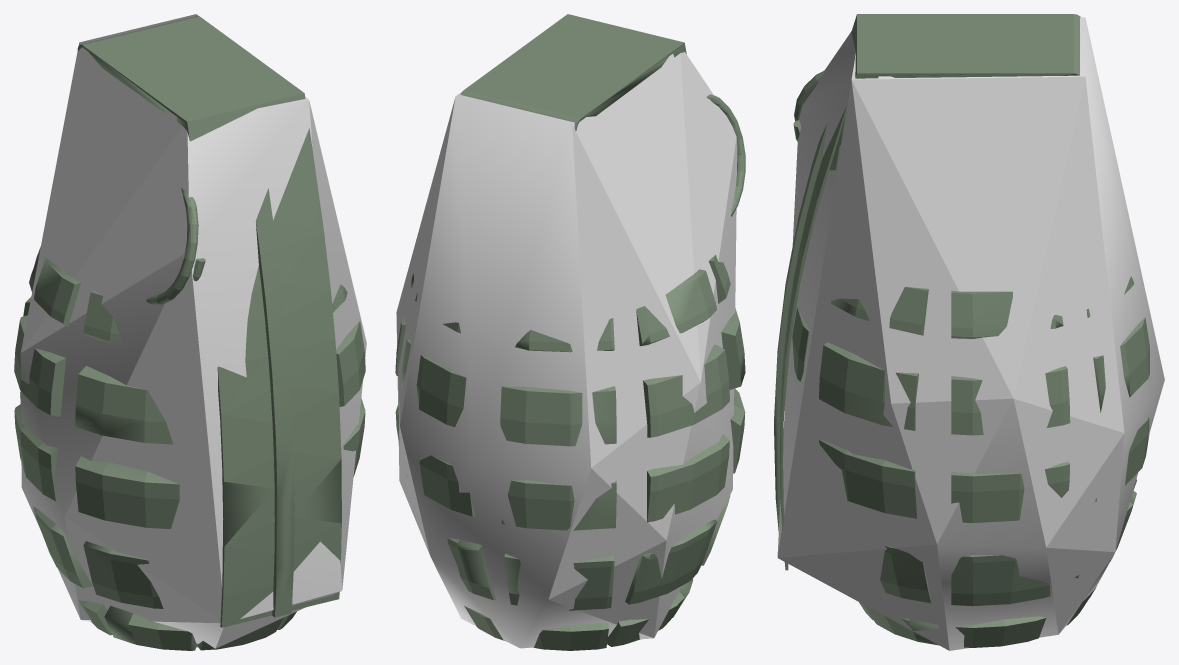
File: grenade.fbx
3 renders of one model, left to right at view 1: azimuth 30°, elevation 25°; view 2: azimuth 150°, elevation 25°; view 3: azimuth 270°, elevation 25°, orthographic. The views are drawn at different scales.
Parts seen in each view (by area): view 1: px.bodyMesh, body; view 2: px.bodyMesh, body; view 3: px.bodyMesh, body.
Boxes of the visible parts, x1=… form: px.bodyMesh: x1=20, y1=14, x2=366, y2=648; body: x1=14, y1=16, x2=365, y2=650; px.bodyMesh: x1=396, y1=52, x2=737, y2=648; body: x1=395, y1=14, x2=745, y2=650; px.bodyMesh: x1=777, y1=17, x2=1164, y2=650; body: x1=774, y1=14, x2=1149, y2=647.
Size of the model in its own units: 3.23 by 5.43 by 3.44.
